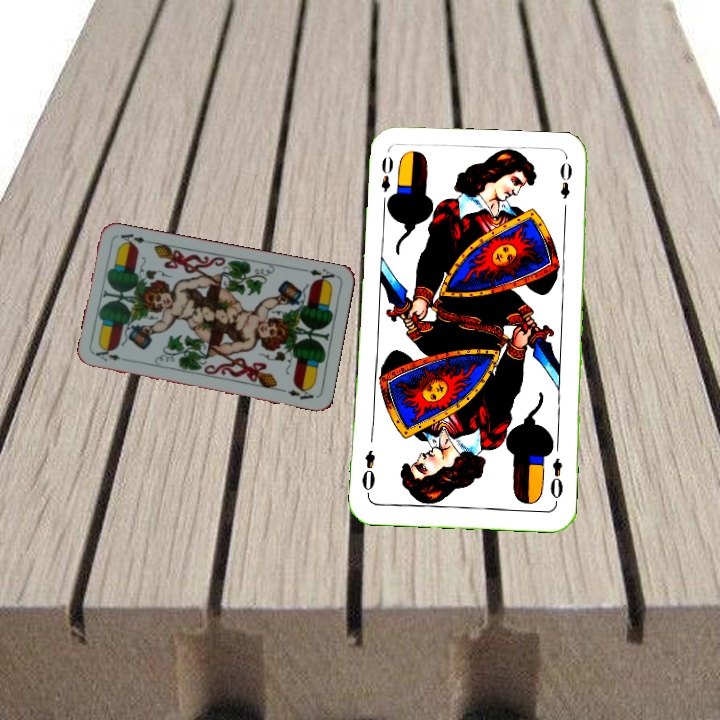EA: (299, 265, 339, 286), (91, 347, 132, 364)
EO: (377, 152, 396, 209), (546, 454, 566, 506)
